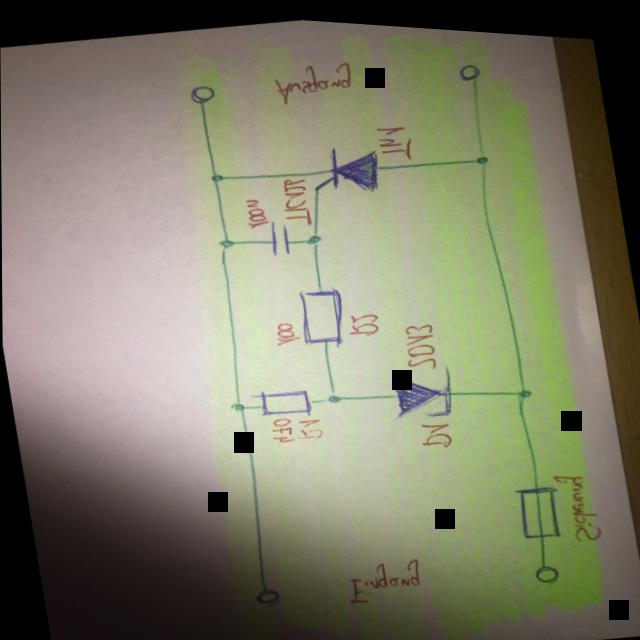capacitor: (266, 213, 294, 254)
diode: (386, 354, 459, 420)
junction: (216, 230, 240, 251), (303, 225, 325, 245), (323, 382, 345, 401), (514, 375, 534, 395), (228, 395, 250, 412), (207, 166, 227, 182), (473, 144, 493, 160)
resistor: (295, 278, 352, 350), (250, 378, 317, 421)
terminal: (252, 579, 283, 606), (532, 552, 562, 579), (188, 79, 219, 104), (458, 54, 485, 77)
text: (269, 50, 359, 108), (344, 547, 427, 604), (551, 459, 606, 540), (401, 311, 442, 369), (277, 170, 315, 226), (374, 114, 418, 160), (418, 410, 455, 446), (345, 303, 384, 335), (241, 190, 272, 228), (268, 409, 298, 443), (272, 314, 303, 346), (294, 410, 326, 439)
thyristor: (306, 133, 386, 198)
